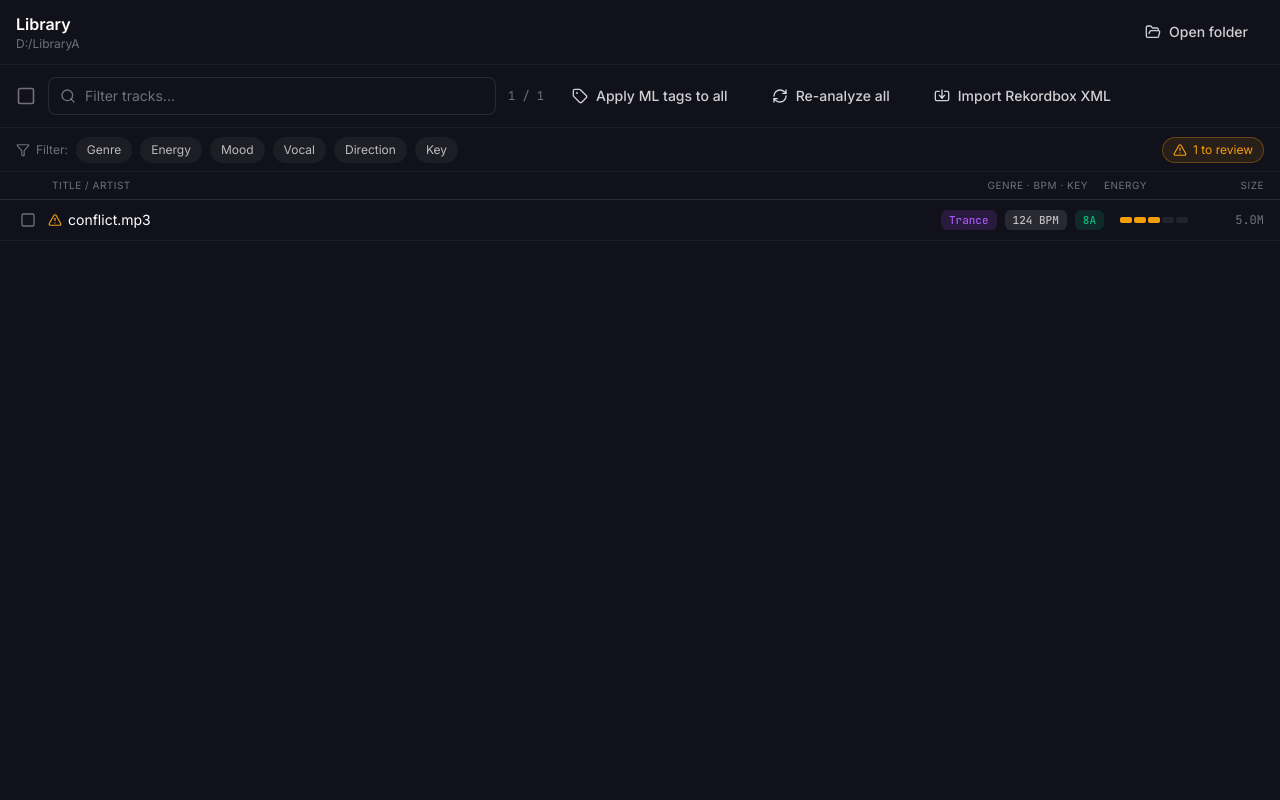
Test: <LibraryBrowser /> — review queue empty states › does not claim the queue is drained when a search emptied it
Click the button "1 to review" at [1213, 150], box [1162, 136, 1264, 162]
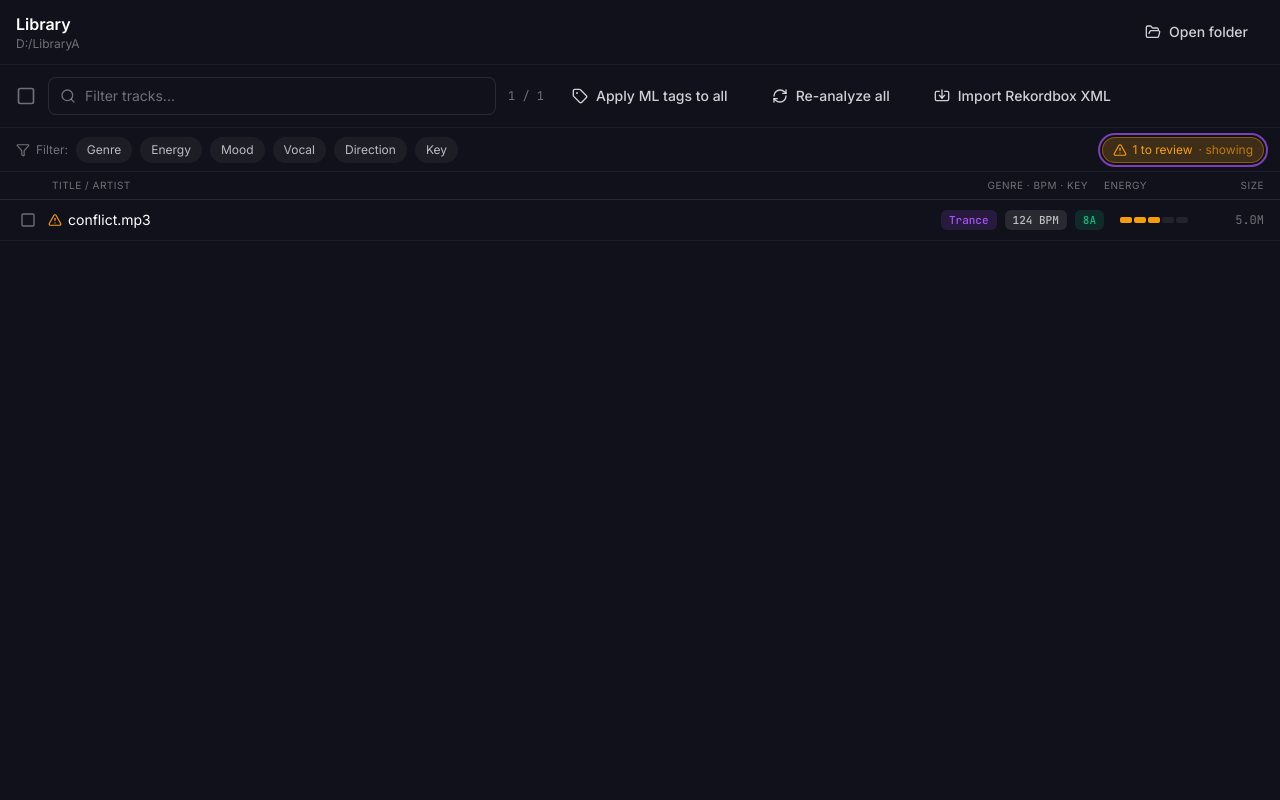
Note: Search for something no flagged track matches.
Type "zzzznomatch" into the field with placeholder "Filter tracks..." at [272, 96], box [48, 77, 496, 115]
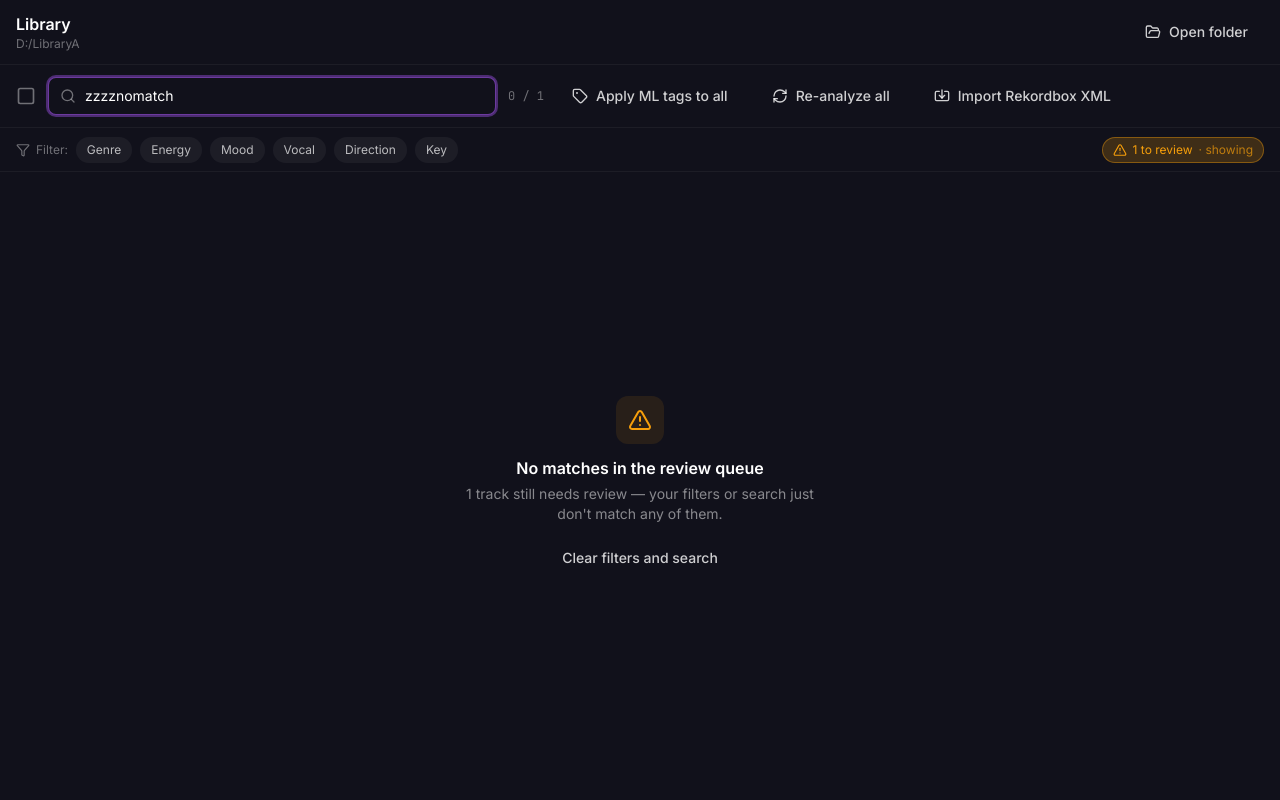
expect the heading "No matches in the review queue" is shown: met, box [516, 458, 764, 478]
expect the text "1 track still needs review" is shown: met, box [466, 485, 627, 502]
